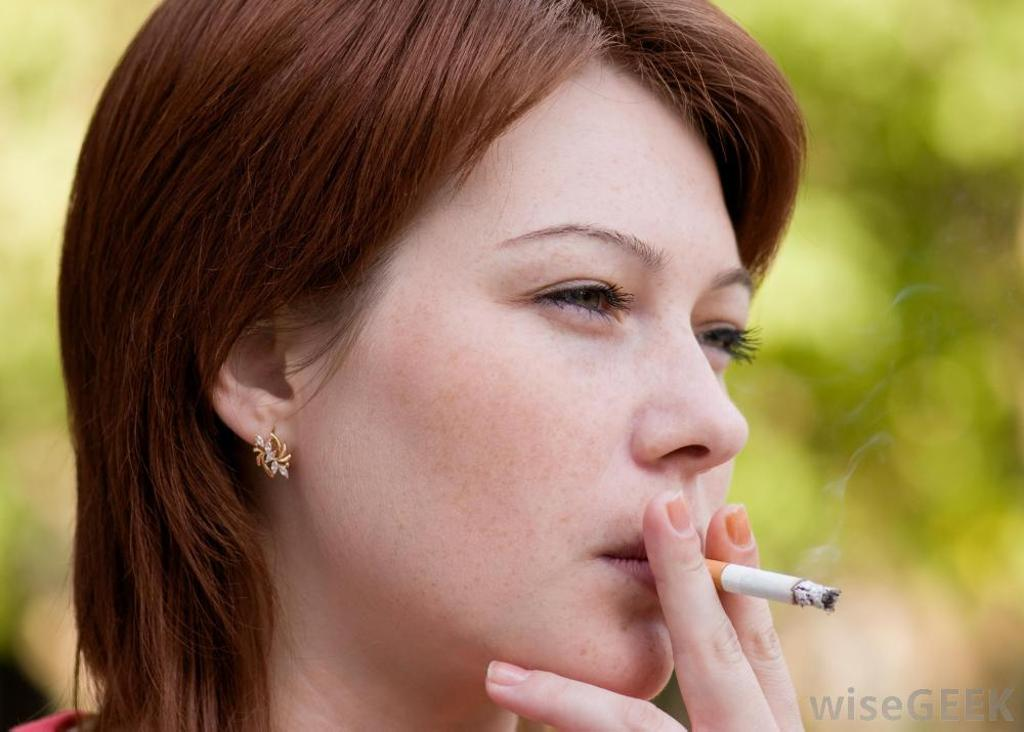face: (294, 54, 750, 696)
